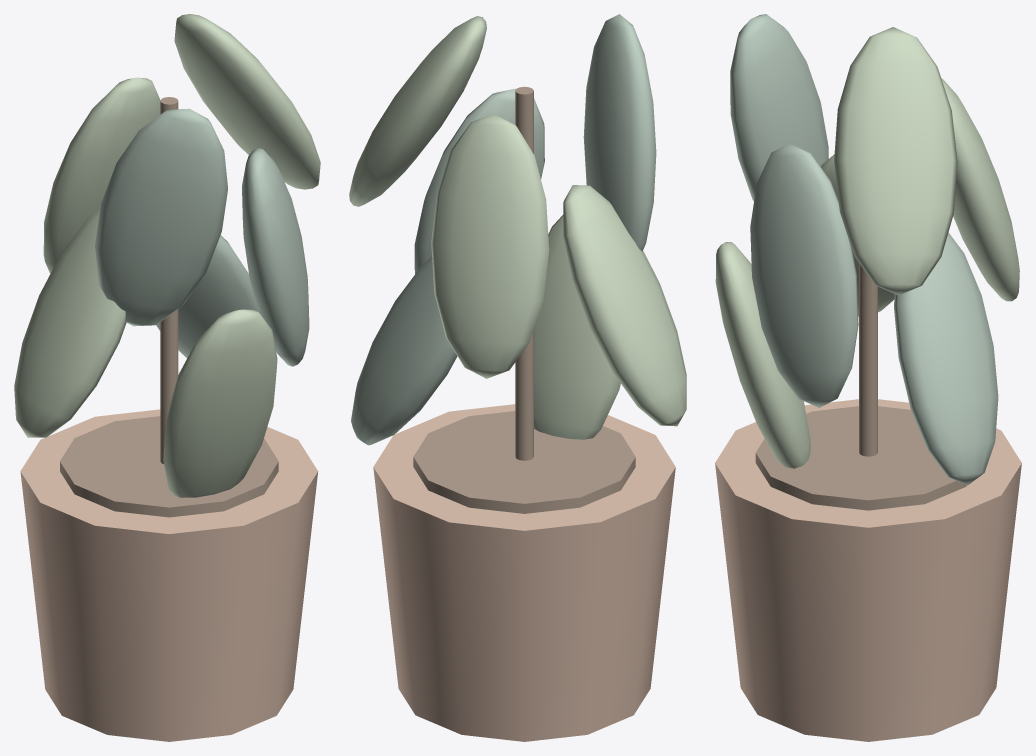
Rendered from plant-w1_1a1.glb.
3 views of the same model, side by side, from view 1: azimuth 30°, elevation 25°; view 2: azimuth 150°, elevation 25°; view 3: azimuth 270°, elevation 25° (orthographic). The views are drawn at different scales.
Visible parts, largest first — view 1: plant-w1_1a1.material0, plant-w1_1a1.material3, plant-w1_1a1.material4, plant-w1_1a1.material1, plant-w1_1a1.material2; view 2: plant-w1_1a1.material0, plant-w1_1a1.material3, plant-w1_1a1.material4, plant-w1_1a1.material1, plant-w1_1a1.material2; view 3: plant-w1_1a1.material0, plant-w1_1a1.material4, plant-w1_1a1.material3, plant-w1_1a1.material1, plant-w1_1a1.material2.
Part boxes in pixels (bbox=[...]): plant-w1_1a1.material0: bbox=[20, 409, 318, 741]; plant-w1_1a1.material3: bbox=[14, 14, 320, 497]; plant-w1_1a1.material4: bbox=[95, 108, 309, 366]; plant-w1_1a1.material1: bbox=[60, 416, 278, 517]; plant-w1_1a1.material2: bbox=[160, 97, 178, 463]; plant-w1_1a1.material0: bbox=[373, 404, 675, 741]; plant-w1_1a1.material3: bbox=[349, 16, 686, 439]; plant-w1_1a1.material4: bbox=[351, 14, 656, 445]; plant-w1_1a1.material1: bbox=[413, 411, 635, 513]; plant-w1_1a1.material2: bbox=[515, 86, 533, 460]; plant-w1_1a1.material0: bbox=[715, 399, 1021, 741]; plant-w1_1a1.material4: bbox=[730, 14, 998, 485]; plant-w1_1a1.material3: bbox=[715, 27, 1019, 468]; plant-w1_1a1.material1: bbox=[755, 406, 966, 510]; plant-w1_1a1.material2: bbox=[859, 263, 877, 456].
Size of the model in its own units: 0.4845 by 0.9927 by 0.408.
